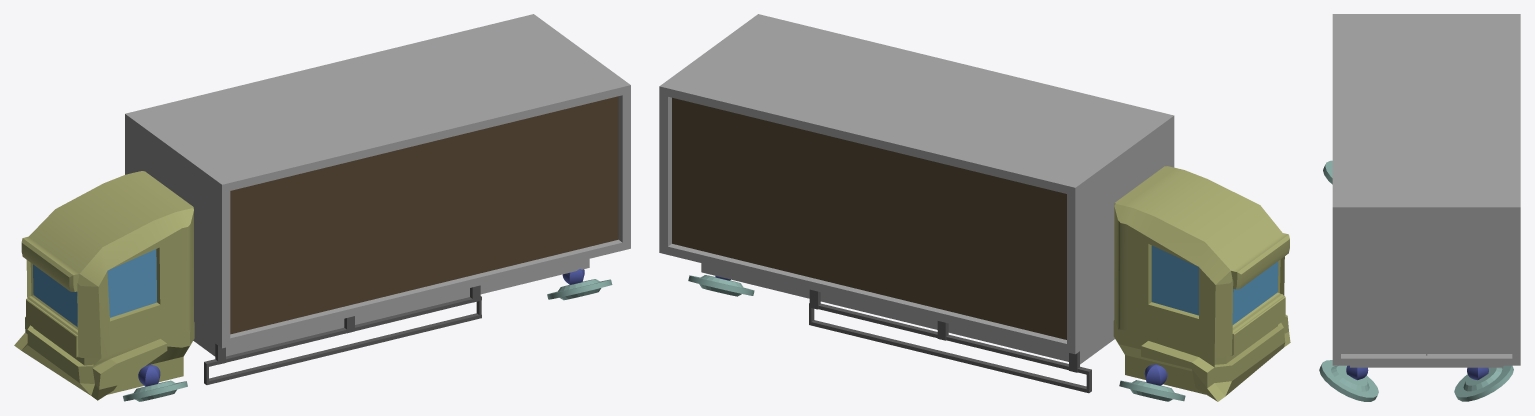
File: Futuristic Truck.fbx
3 renders of one model, left to right at view 1: azimuth 30°, elevation 25°; view 2: azimuth 150°, elevation 25°; view 3: azimuth 270°, elevation 25°, orthographic. The views are drawn at different scales.
Visible parts, largest first — view 1: polySurface1761; view 2: polySurface1761; view 3: polySurface1761.
Part boxes in pixels (left/top/right/bottom): polySurface1761: left=14, top=14, right=630, bottom=401; polySurface1761: left=659, top=14, right=1290, bottom=401; polySurface1761: left=1319, top=14, right=1520, bottom=401.
Bounding box in the file's own units: 173 × 65.98 × 57.57.
